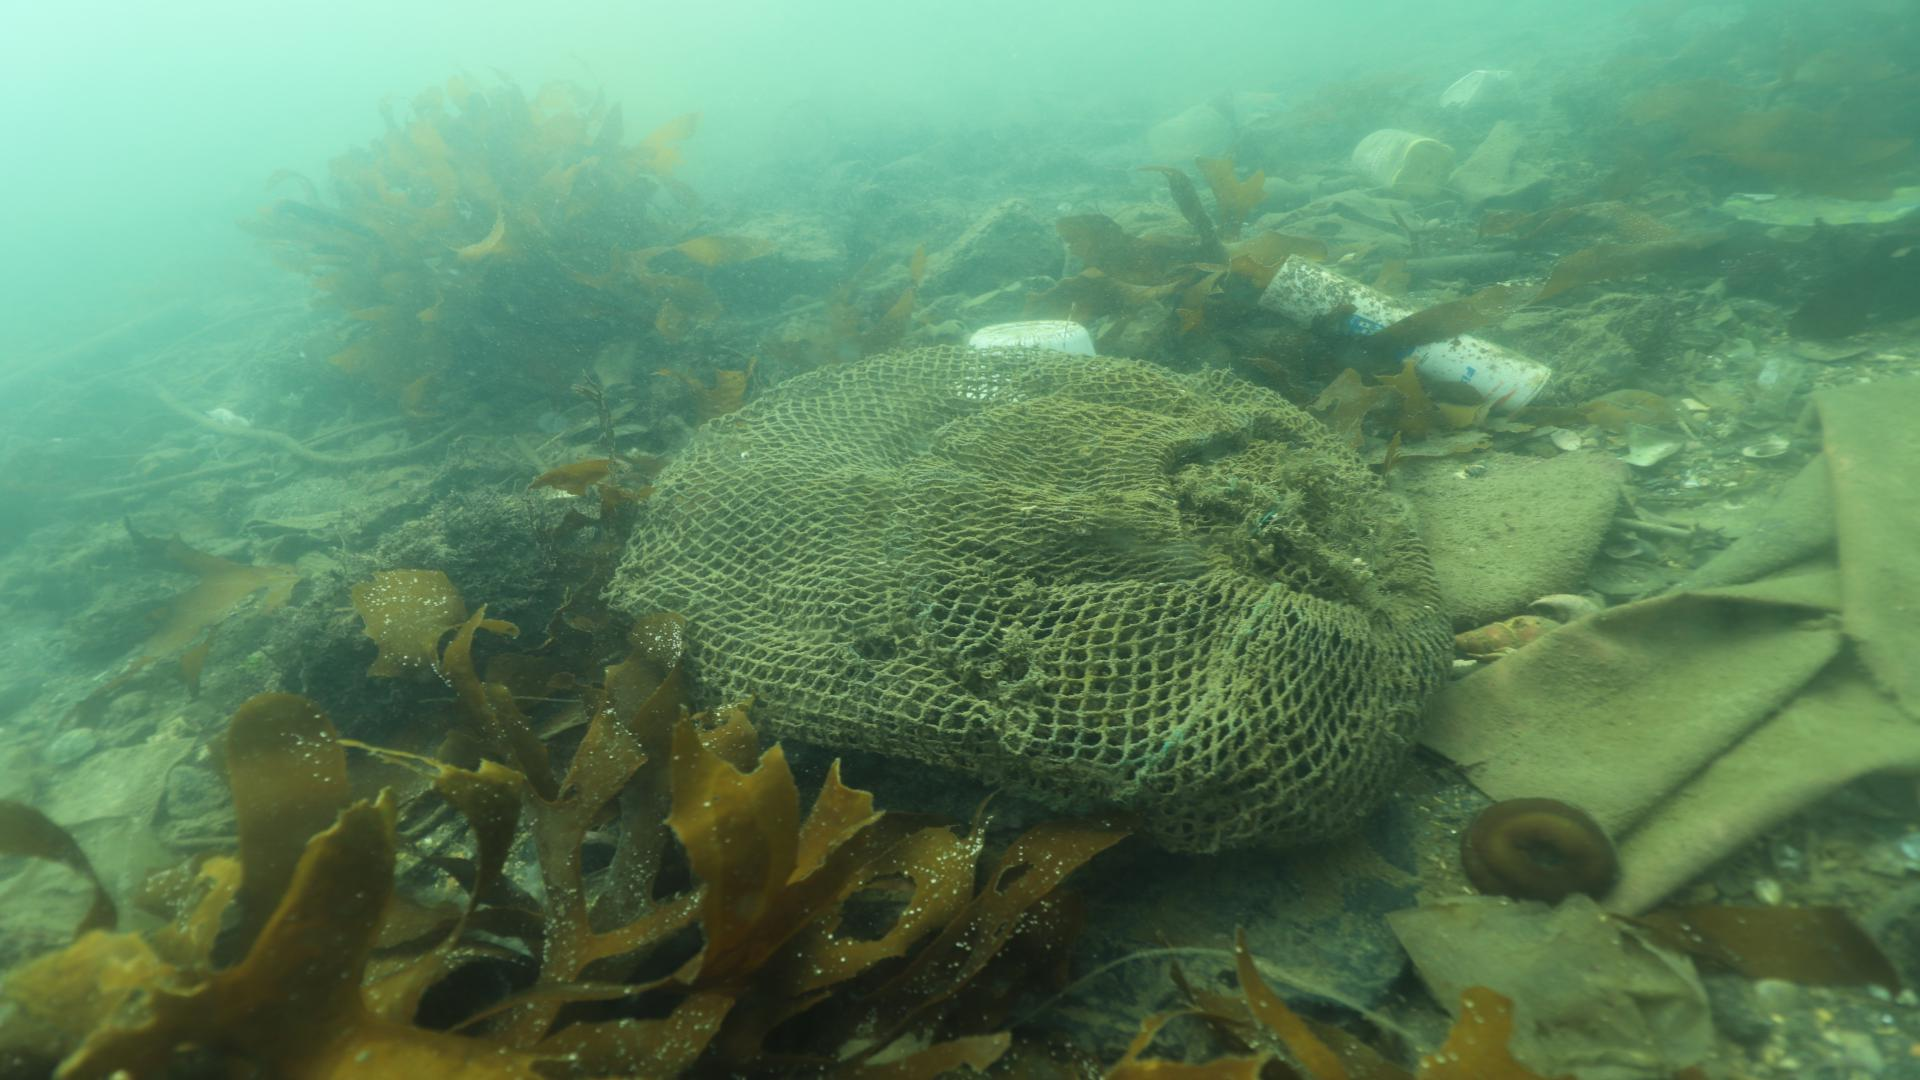fish net: (612, 344, 1453, 858)
